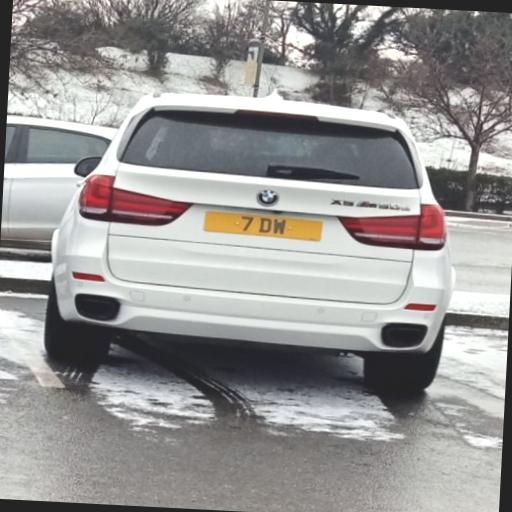numberplates: (204, 211, 322, 241)
